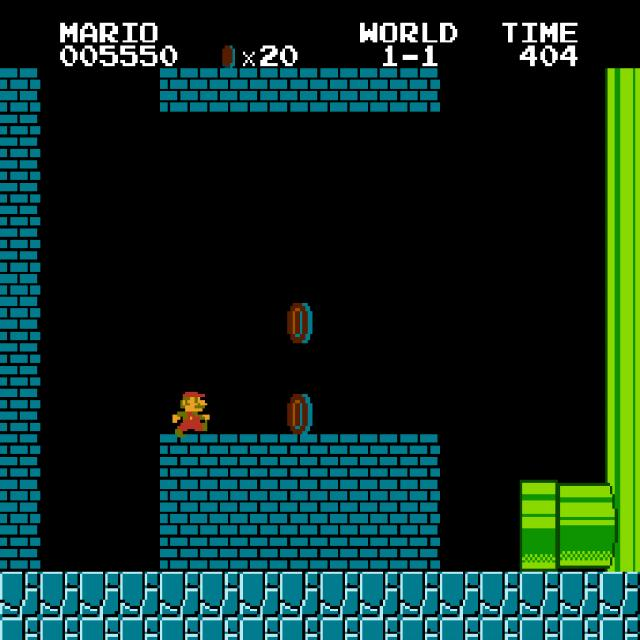brick_block: (0, 68, 40, 114), (0, 205, 40, 251), (0, 251, 40, 297), (0, 342, 40, 388), (0, 388, 40, 434), (0, 525, 40, 571), (160, 434, 200, 480), (160, 480, 200, 526), (200, 434, 240, 480), (200, 480, 240, 526), (240, 434, 280, 480), (240, 480, 280, 526), (280, 434, 320, 480), (280, 480, 320, 526), (320, 434, 360, 480), (320, 480, 360, 526), (360, 434, 400, 480), (360, 480, 400, 526), (400, 434, 440, 480), (400, 480, 440, 526), (0, 114, 40, 159), (0, 160, 40, 205), (0, 297, 40, 342), (0, 434, 40, 479), (0, 480, 40, 525), (160, 69, 200, 114), (160, 526, 200, 571), (200, 69, 240, 114), (200, 526, 240, 571), (240, 69, 280, 114), (240, 526, 280, 571), (280, 69, 320, 114), (280, 526, 320, 571), (320, 69, 360, 114), (320, 526, 360, 571), (360, 69, 400, 114), (360, 526, 400, 571), (400, 69, 440, 114), (400, 526, 440, 571)
coin: (280, 297, 320, 343), (280, 389, 320, 434)
little_mario: (170, 389, 213, 437)
pipe: (599, 68, 640, 114), (599, 205, 640, 251), (599, 251, 640, 297), (599, 342, 640, 388), (599, 388, 640, 434), (599, 525, 640, 571), (599, 114, 640, 159), (599, 160, 640, 205), (599, 297, 640, 342), (599, 434, 640, 479), (599, 480, 640, 525), (560, 480, 600, 526), (560, 526, 600, 571)
pipe_head: (520, 480, 560, 526), (520, 526, 560, 571)
undestructible_block: (599, 571, 640, 617), (0, 571, 40, 617), (40, 572, 80, 617), (80, 572, 120, 617), (120, 572, 160, 617), (160, 572, 200, 617), (200, 572, 240, 617), (240, 572, 280, 617), (280, 572, 320, 617), (320, 572, 360, 617), (360, 572, 400, 617), (400, 572, 440, 617), (440, 572, 480, 617), (480, 572, 520, 617), (520, 572, 560, 617), (560, 572, 600, 617), (40, 617, 80, 640), (80, 617, 120, 640), (120, 617, 160, 640), (160, 617, 200, 640), (200, 617, 240, 640), (240, 617, 280, 640), (280, 617, 320, 640), (320, 617, 360, 640), (360, 617, 400, 640), (400, 617, 440, 640), (440, 617, 480, 640), (480, 617, 520, 640), (520, 617, 560, 640), (560, 617, 600, 640), (599, 617, 640, 639), (0, 617, 40, 639)
